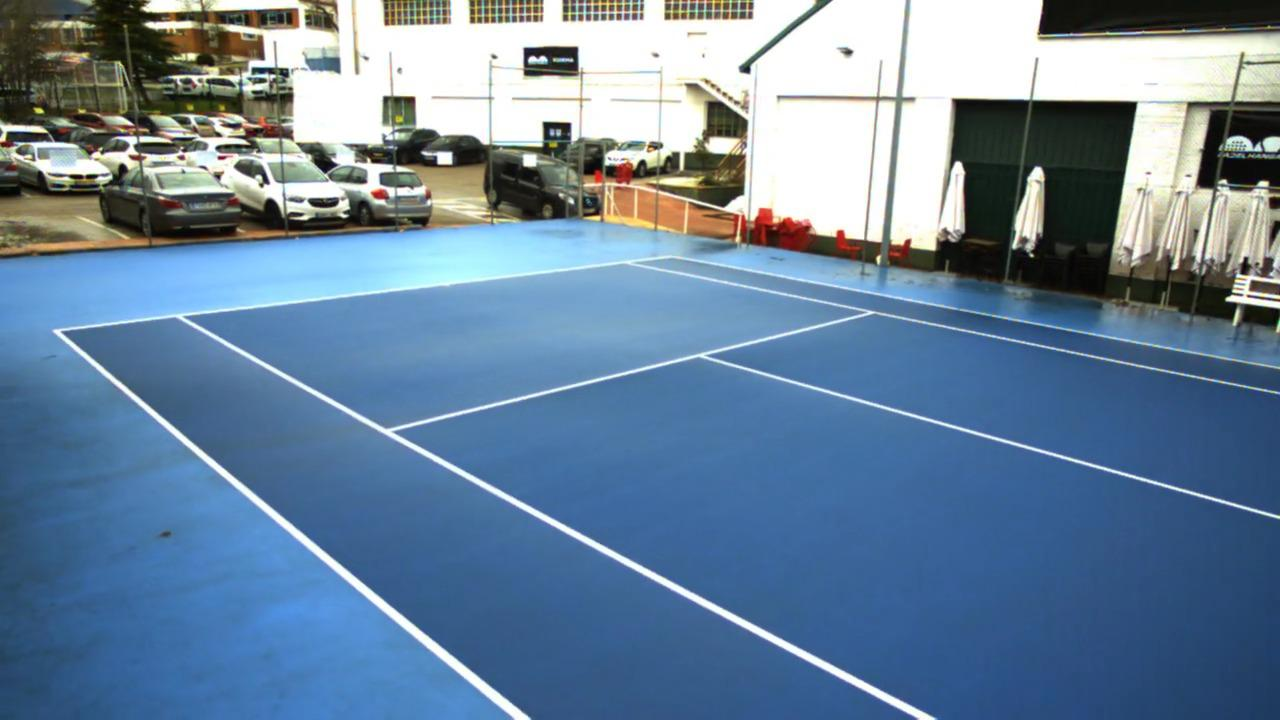cancha_tenis: (176, 261, 1278, 719)
point_f1: (165, 303, 201, 331)
point_f2: (618, 251, 648, 274)
point_fc1: (440, 278, 457, 293)
point_i1: (372, 417, 413, 445)
point_i2: (853, 303, 886, 326)
point_ic1: (688, 343, 726, 370)
